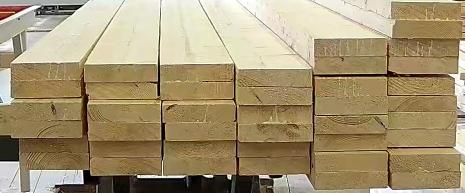Wood-Plank: (390, 148, 462, 173), (86, 100, 161, 122), (163, 100, 236, 122), (314, 151, 389, 172), (10, 98, 81, 120), (237, 66, 311, 87), (237, 105, 313, 124), (315, 115, 389, 134), (238, 123, 312, 142), (311, 172, 389, 190), (391, 18, 461, 38), (161, 81, 234, 100), (161, 64, 234, 83), (316, 77, 388, 96), (316, 96, 388, 115), (88, 122, 160, 141), (389, 38, 460, 57), (239, 157, 310, 176), (165, 122, 236, 141), (389, 75, 456, 95), (84, 64, 158, 82), (315, 57, 388, 75), (11, 80, 84, 98), (314, 38, 387, 56), (236, 88, 313, 105), (390, 172, 462, 190), (164, 157, 236, 175), (90, 158, 162, 176), (11, 120, 82, 138), (390, 2, 460, 20), (314, 134, 388, 151), (389, 56, 458, 74), (86, 82, 158, 99), (19, 153, 89, 170), (388, 130, 457, 147), (389, 112, 457, 129), (10, 63, 78, 80), (164, 141, 236, 157), (89, 141, 161, 157), (389, 96, 458, 112), (20, 138, 87, 154), (238, 143, 311, 157)
